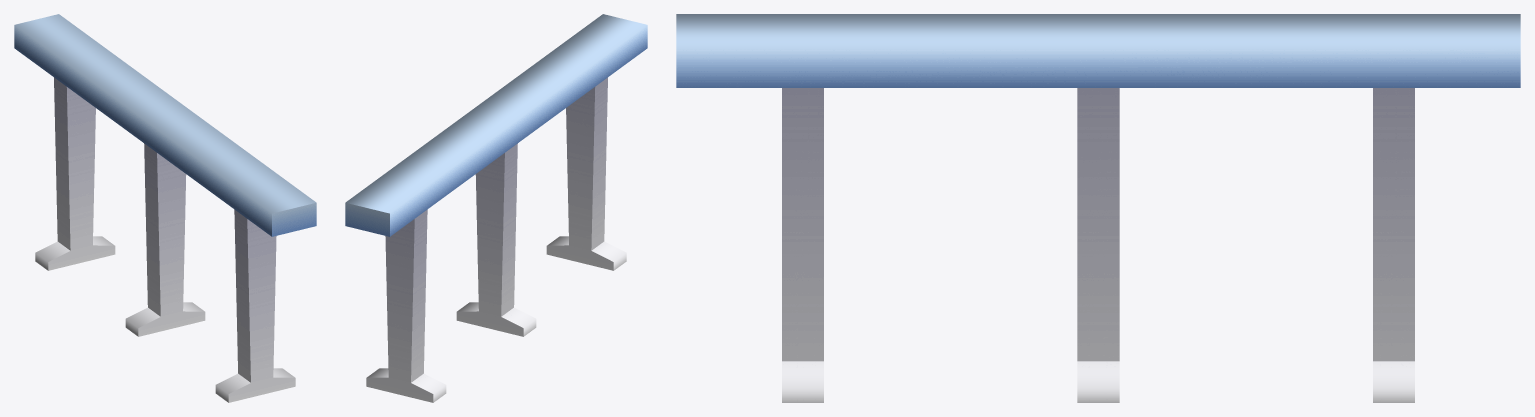
The model's file is rail-high.glb.
The picture shows the model from 3 angles, left to right: view 1: azimuth 30°, elevation 25°; view 2: azimuth 150°, elevation 25°; view 3: azimuth 270°, elevation 25°; orthographic projection. The views are drawn at different scales.
Visible parts, largest first — view 1: rail-high; view 2: rail-high; view 3: rail-high.
Boxes of the visible parts, x1=… form: rail-high: x1=14, y1=14, x2=316, y2=402; rail-high: x1=345, y1=14, x2=647, y2=402; rail-high: x1=676, y1=14, x2=1520, y2=402.
Bounding box in the file's own units: 0.15 × 0.45 × 1.
